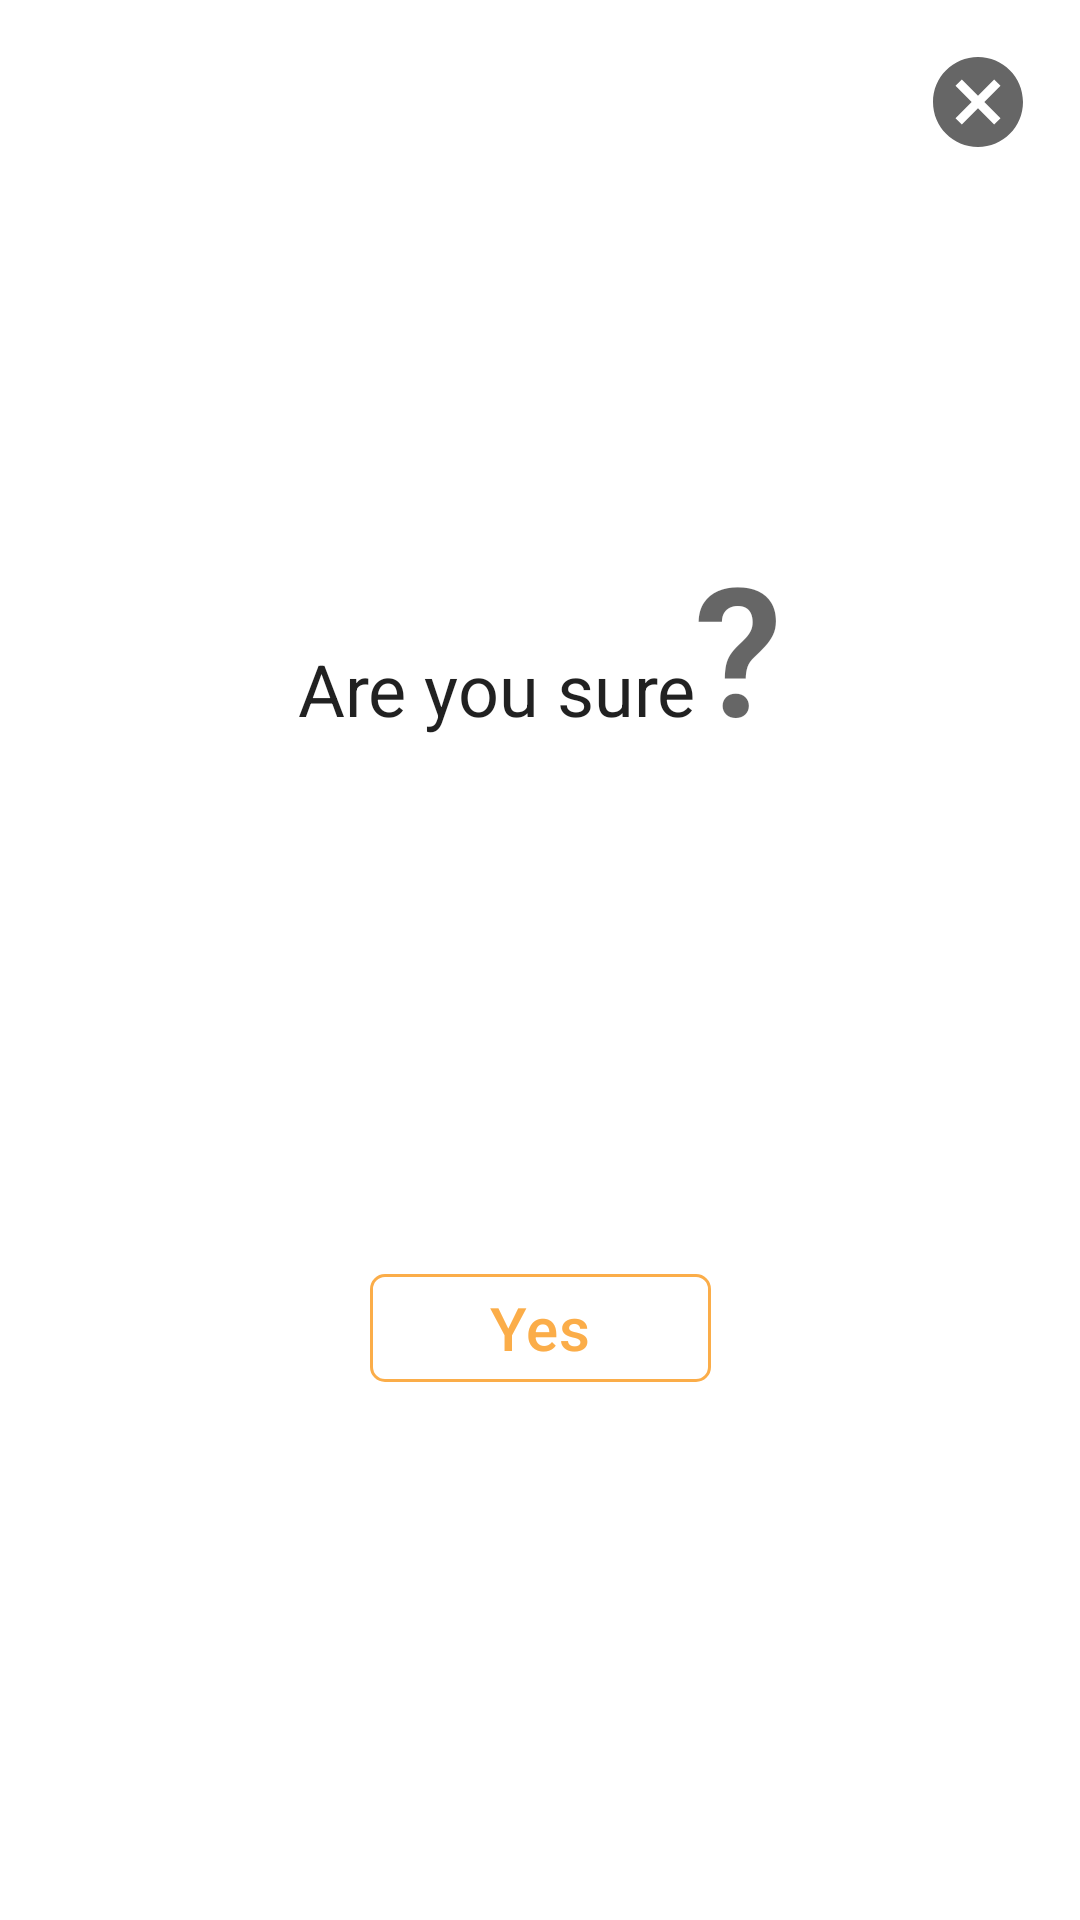

Point at icon controls on the screen. Image size 1080×1920, points as (x=x, y=y).
cancel: (x=978, y=102)
